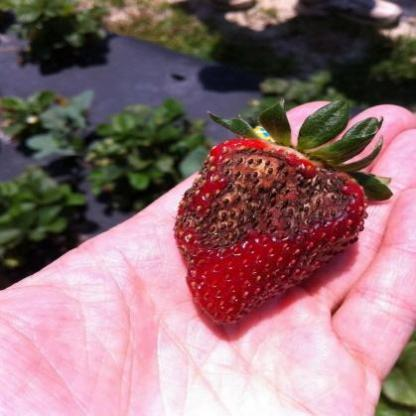Strawberry_Anthracnose_Fruit_Rot: (172, 138, 370, 272)
